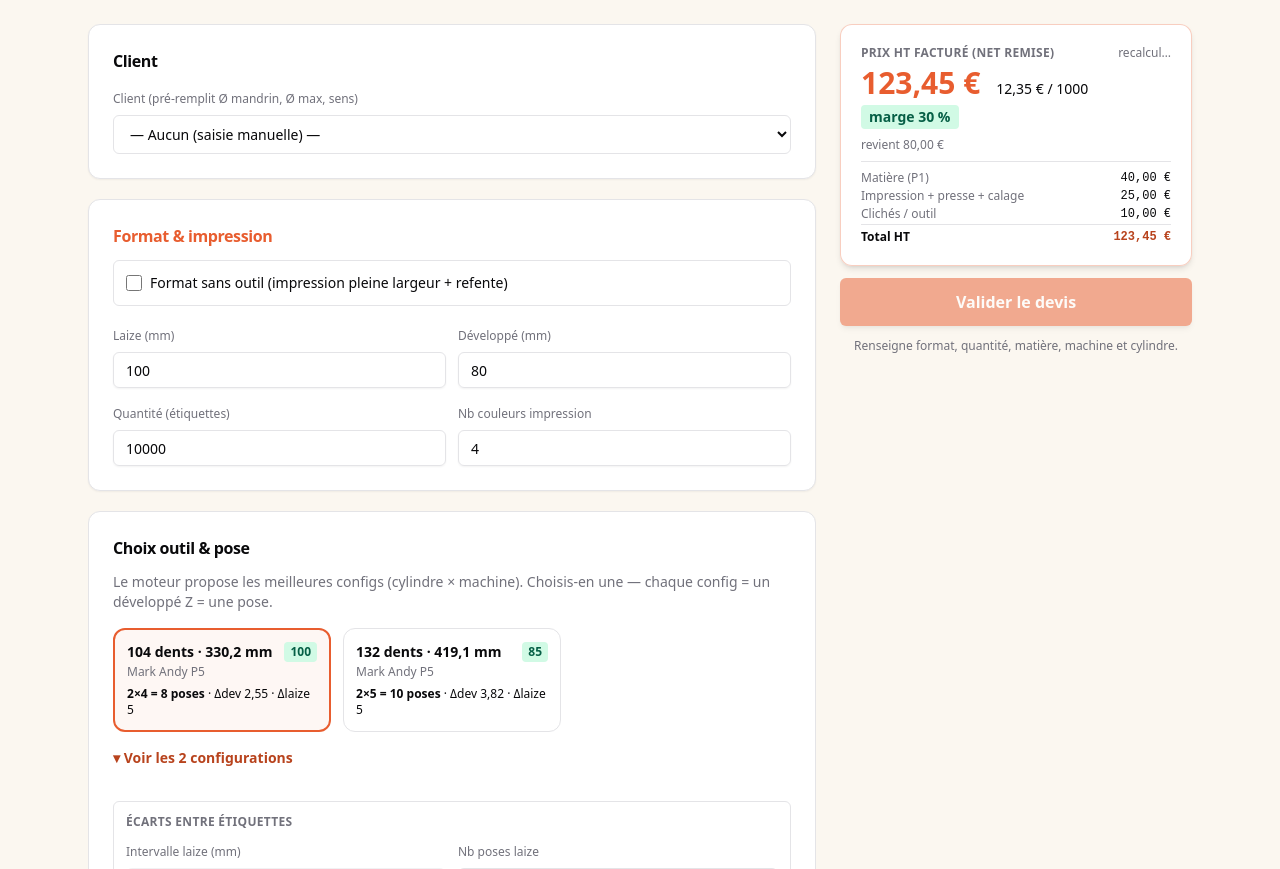
DevisPageUnique — page devis réactive › toggle sans outil : replie la carte Outil (transition), expose la laize stock
Expected: the button with test id "config-card-11" is shown, [113,628,331,732]
What coordinates should you click on to do the following:
click the checkbox with test id "toggle-sans-outil"
I would click on:
 (134, 283)
Its box is [126,275,142,291].
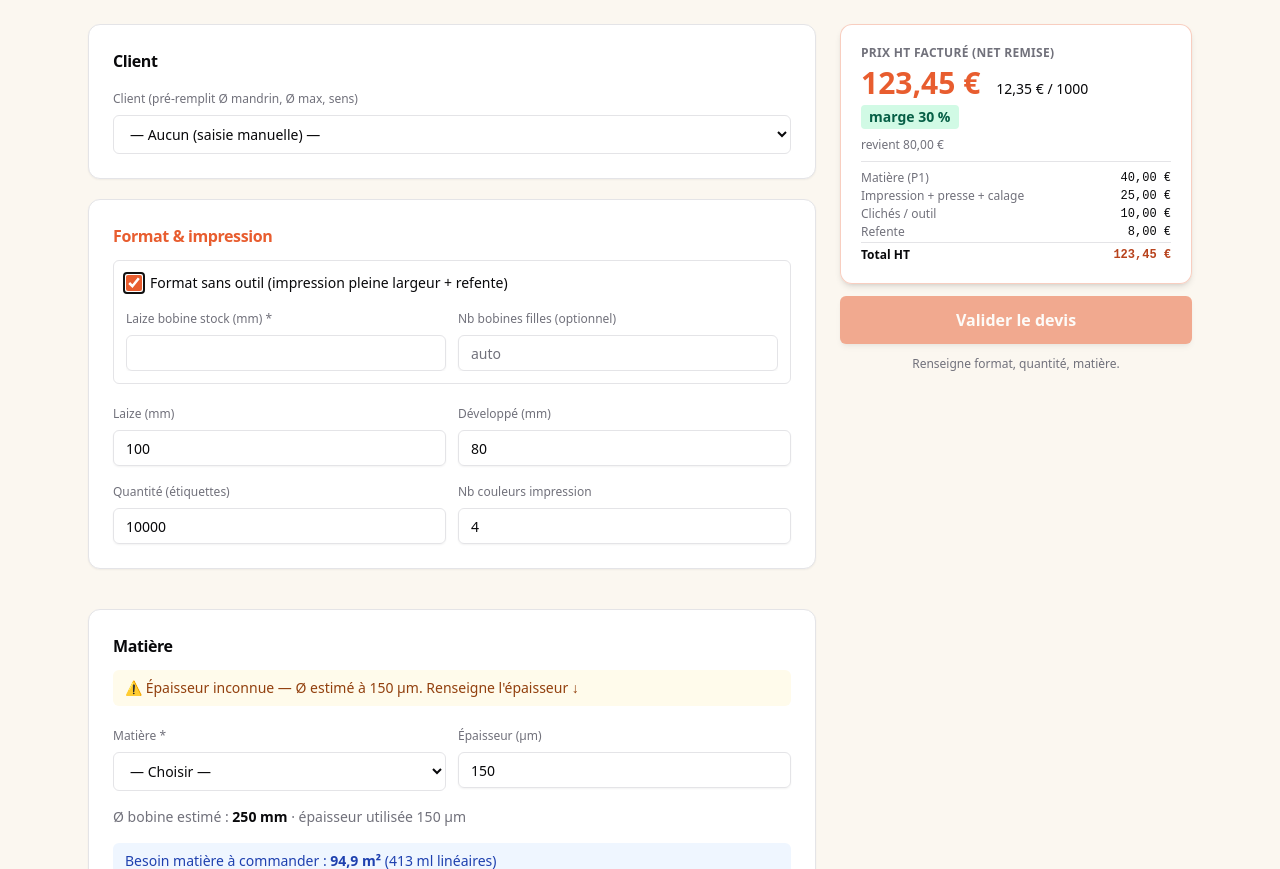
Result: the number field with test id "laize-stock" is shown at [126,335,446,371]
